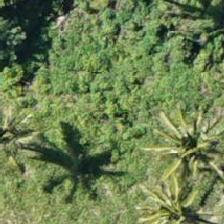coconut_tree: (148, 98, 223, 188), (114, 170, 204, 223)
